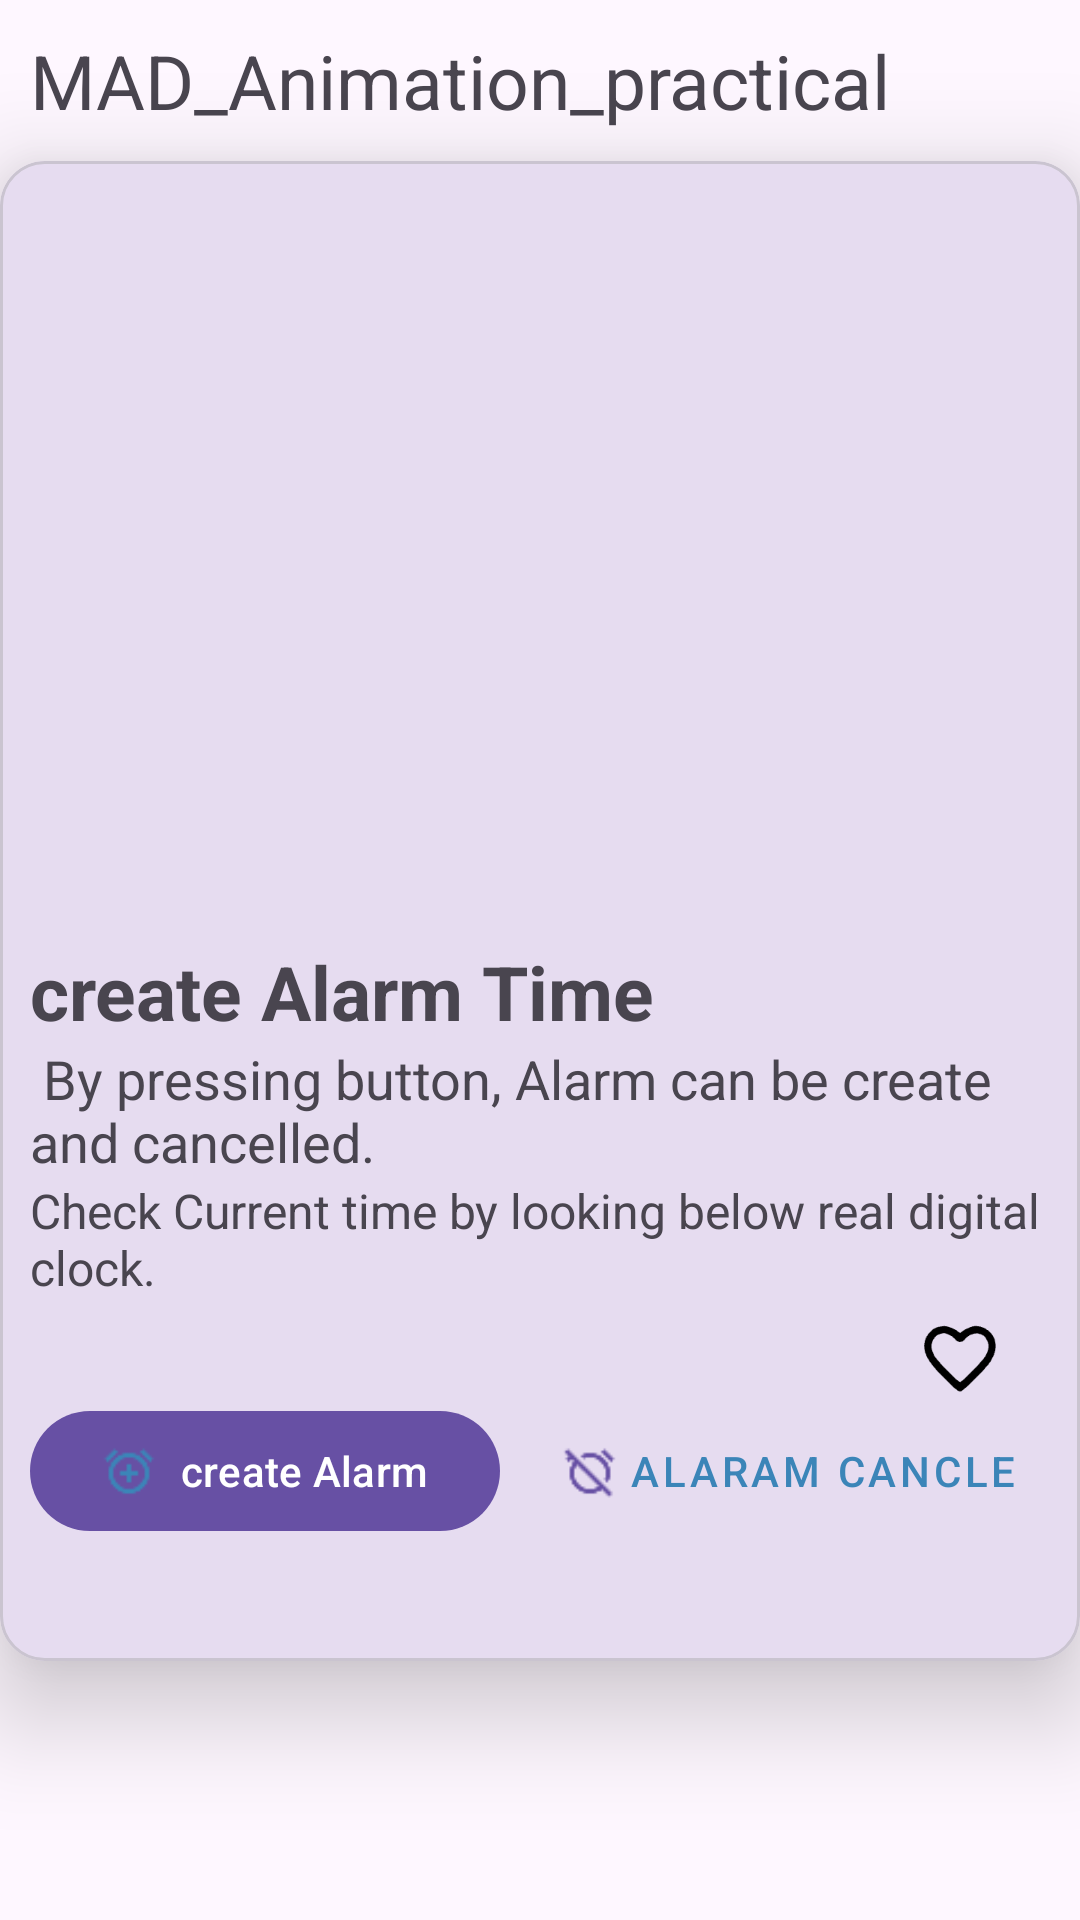

Locate icon controls on the screen. Image size 1080×1920, boxes as [x1=x1, y1=y1, x2=x2, y2=y2].
heart animation list: [x1=924, y1=1325, x2=996, y2=1392]
